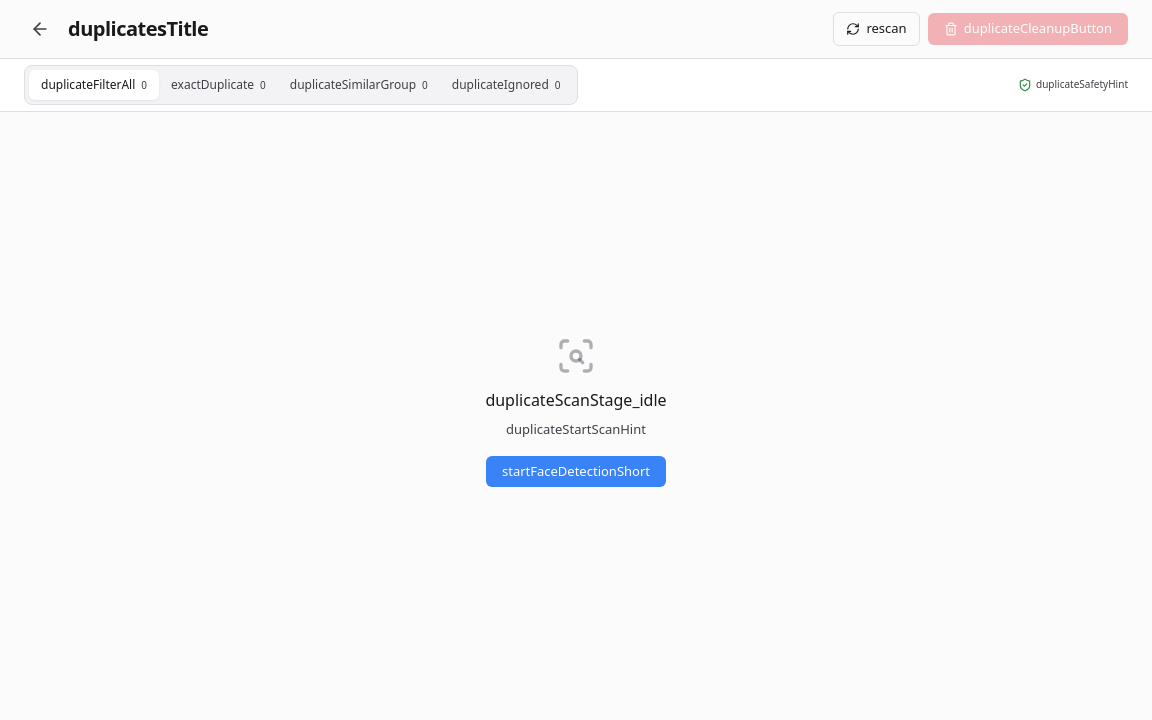
Scenario: DuplicatesPage persisted review › shows an initial scan failure with a retry action
Click the button "startFaceDetectionShort". click: (576, 472)
box: [486,456,666,487]
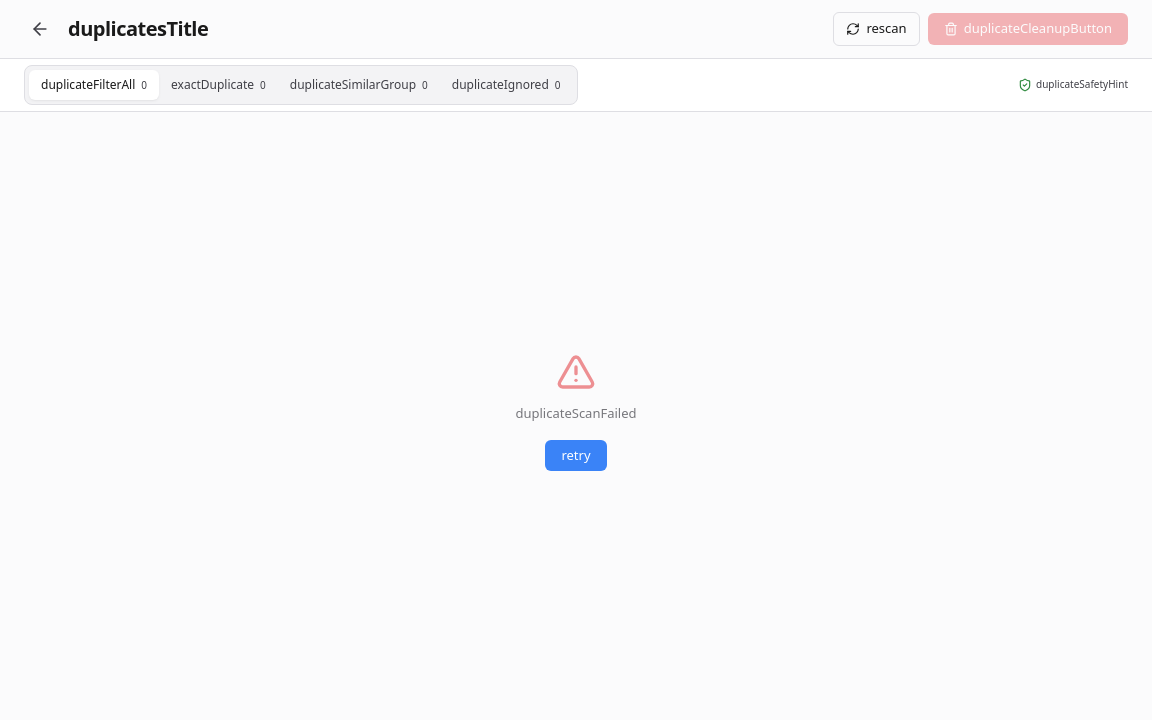
Expected: the message shows "duplicateScanFailed", [516,404,637,422]
Click the button "retry". click: (576, 456)
box: [545,440,606,471]
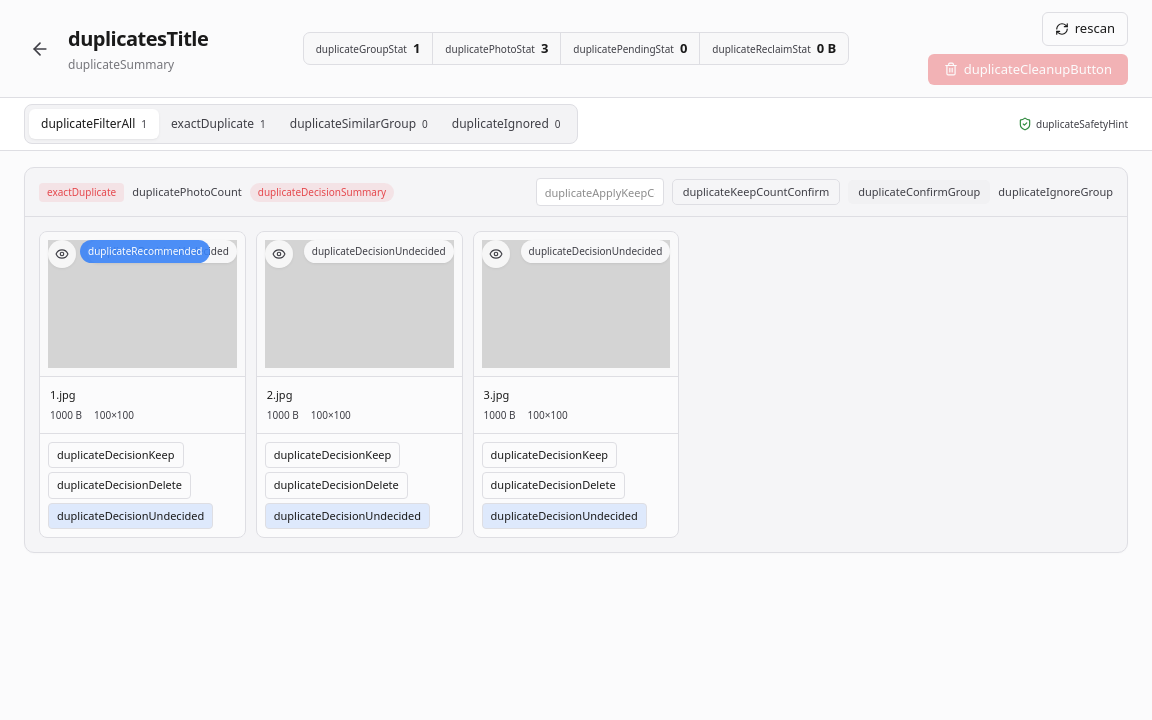
Expected: the text "1.jpg" is shown, [50,387,76,402]
